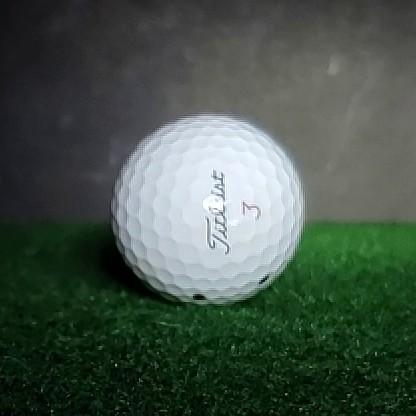golfball: (109, 115, 304, 306)
